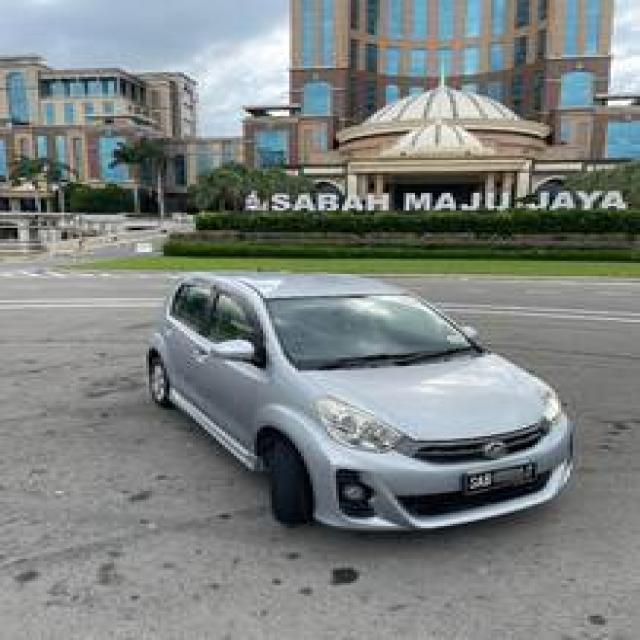PeroduaMyvi: (140, 267, 576, 535)
